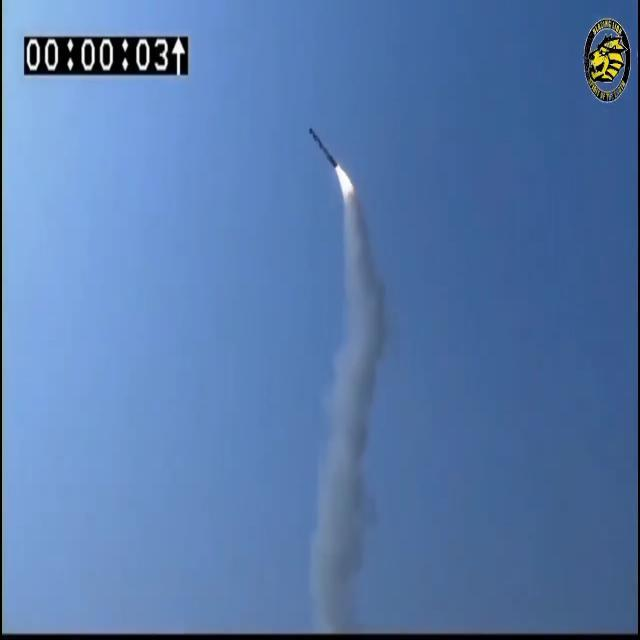missile: (305, 119, 341, 174)
